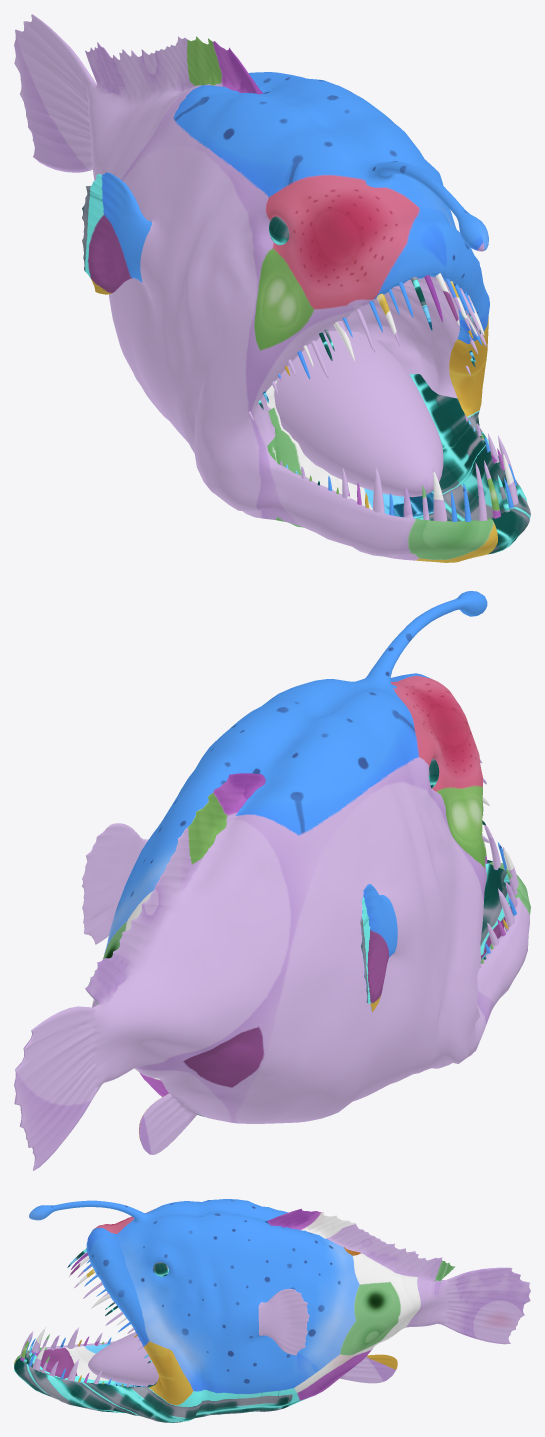
Rendered from Anger_Fish.gltf.
3 renders of one model, top to bottom at view 1: azimuth 30°, elevation 25°; view 2: azimuth 150°, elevation 25°; view 3: azimuth 270°, elevation 25°, orthographic. The views are drawn at different scales.
Parts seen in each view (by area): view 1: node_id31; view 2: node_id31; view 3: node_id31.
Part boxes in pixels (x1,y1,x2,y2): node_id31: [14, 14, 530, 562]; node_id31: [14, 591, 530, 1170]; node_id31: [14, 1199, 530, 1422].
Size of the model in its own units: 0.4026 by 0.512 by 1.19.
